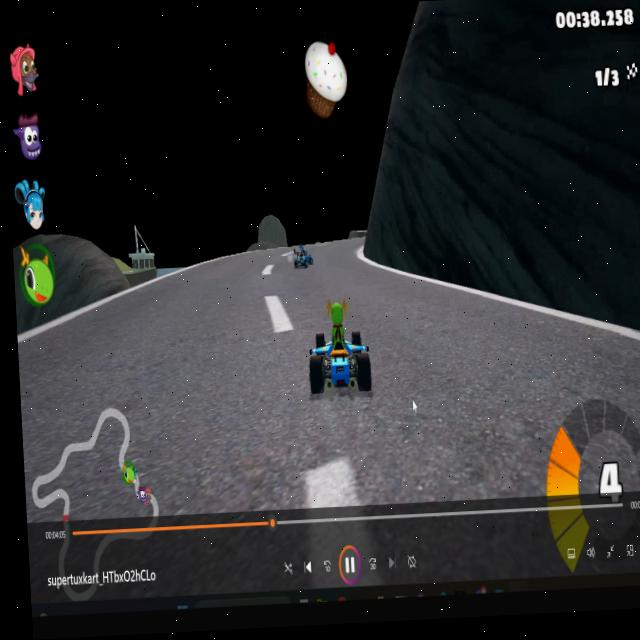enemy_kart: (289, 244, 316, 273)
player_kart: (303, 295, 373, 412)
track: (310, 396, 640, 505), (22, 406, 313, 522), (19, 325, 309, 413), (458, 322, 640, 406), (369, 279, 461, 406), (140, 279, 301, 339), (455, 287, 529, 332), (232, 245, 290, 284), (318, 246, 368, 291), (89, 304, 146, 337), (185, 260, 236, 285), (294, 270, 321, 290), (327, 232, 365, 246), (161, 272, 187, 287), (123, 290, 147, 303), (318, 237, 326, 250)
